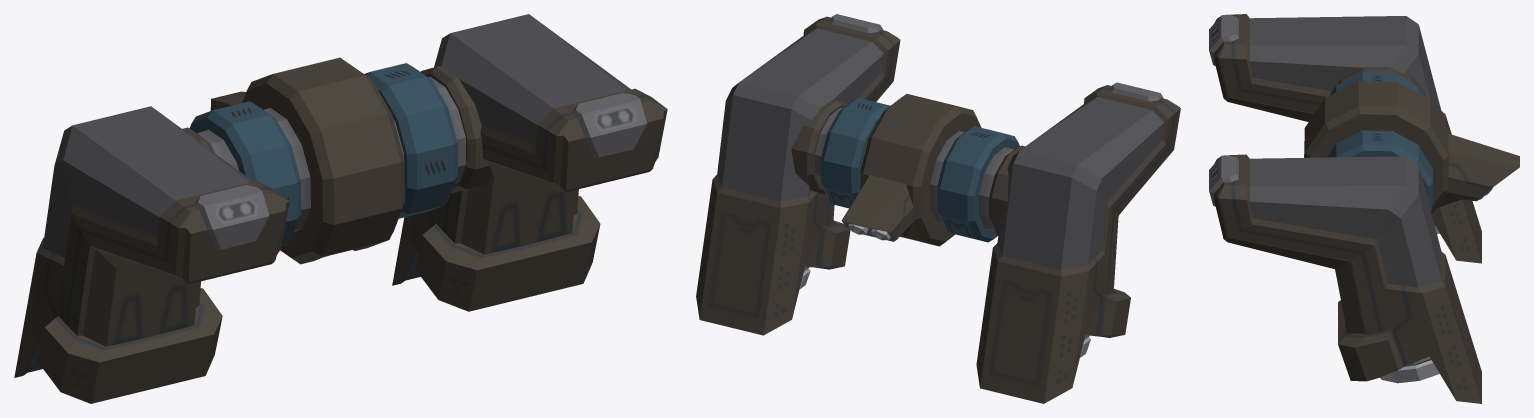
The model's file is SM_Mech_Back_01_Attach_Jetpack_01.fbx.
The picture shows the model from 3 angles, left to right: view 1: azimuth 30°, elevation 25°; view 2: azimuth 150°, elevation 25°; view 3: azimuth 270°, elevation 25°; orthographic projection. The views are drawn at different scales.
Visible parts, largest first — view 1: SM_Mech_Back_01_Attach_Jetpack_01; view 2: SM_Mech_Back_01_Attach_Jetpack_01; view 3: SM_Mech_Back_01_Attach_Jetpack_01.
Part boxes in pixels (x1,y1,x2,y2): SM_Mech_Back_01_Attach_Jetpack_01: [14, 14, 667, 403]; SM_Mech_Back_01_Attach_Jetpack_01: [696, 14, 1180, 403]; SM_Mech_Back_01_Attach_Jetpack_01: [1209, 14, 1519, 403].
Bounding box in the file's own units: 217 × 114 × 143.
